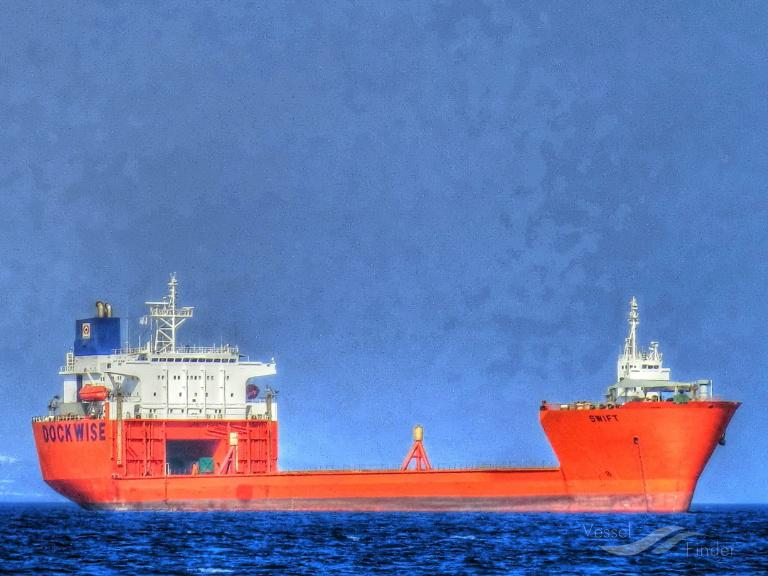OCR: (34, 422, 109, 447), (582, 409, 633, 430)
